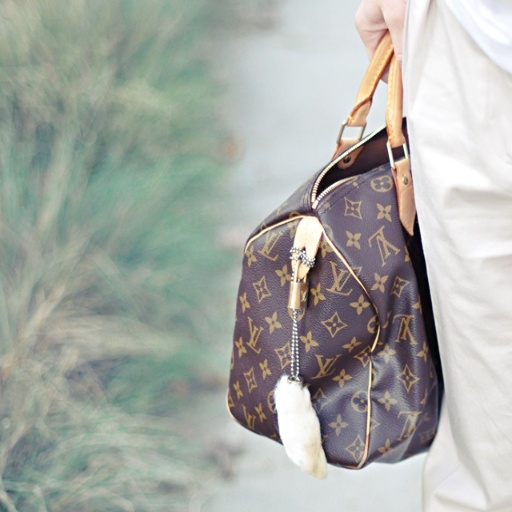hand: (355, 0, 408, 79)
